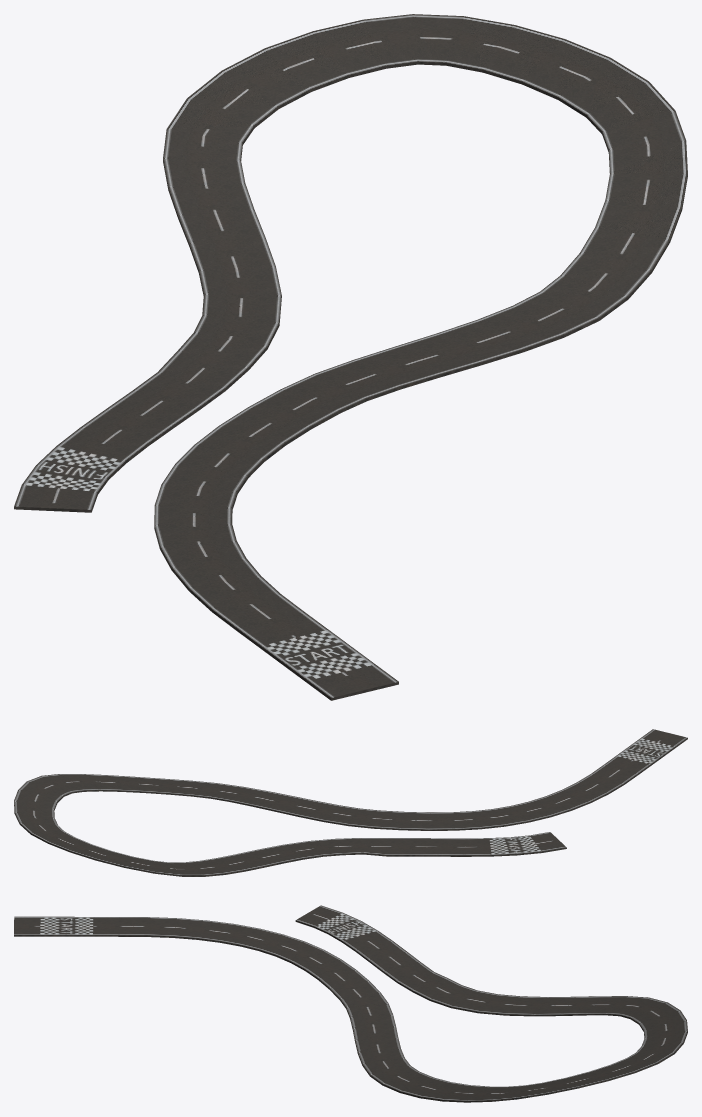
The model's file is TrackLevel009.FBX.
The picture shows the model from 3 angles, top to bottom: view 1: azimuth 30°, elevation 25°; view 2: azimuth 150°, elevation 25°; view 3: azimuth 270°, elevation 25°; orthographic projection. The views are drawn at different scales.
Visible parts, largest first — view 1: Track009; view 2: Track009; view 3: Track009.
Part boxes in pixels (<box>): Track009: <box>14,14,687,700</box>; Track009: <box>14,729,687,876</box>; Track009: <box>14,905,687,1102</box>.
Size of the model in its own units: 2471 by 248 by 3089.
